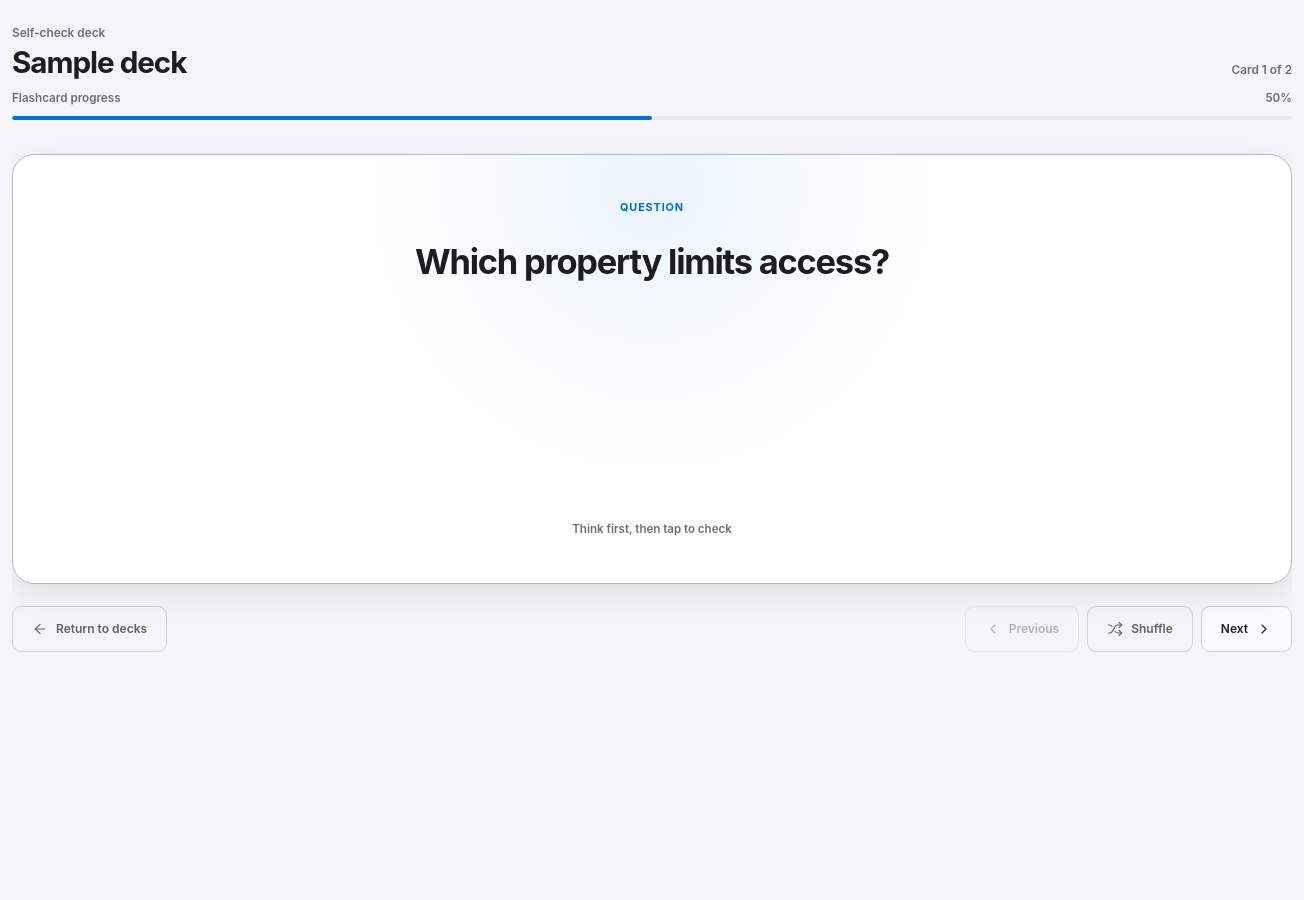
Test: FlashcardDeck › reveals a self-check answer without scoring it
Check: the text "Card 1 of 2" is shown, box [1232,61,1292,79]
Check: the text "Which property limits access?" is shown, box [415,241,889,282]
Click the button with aria-label "reveal answer": (652, 369) [12,154,1292,584]
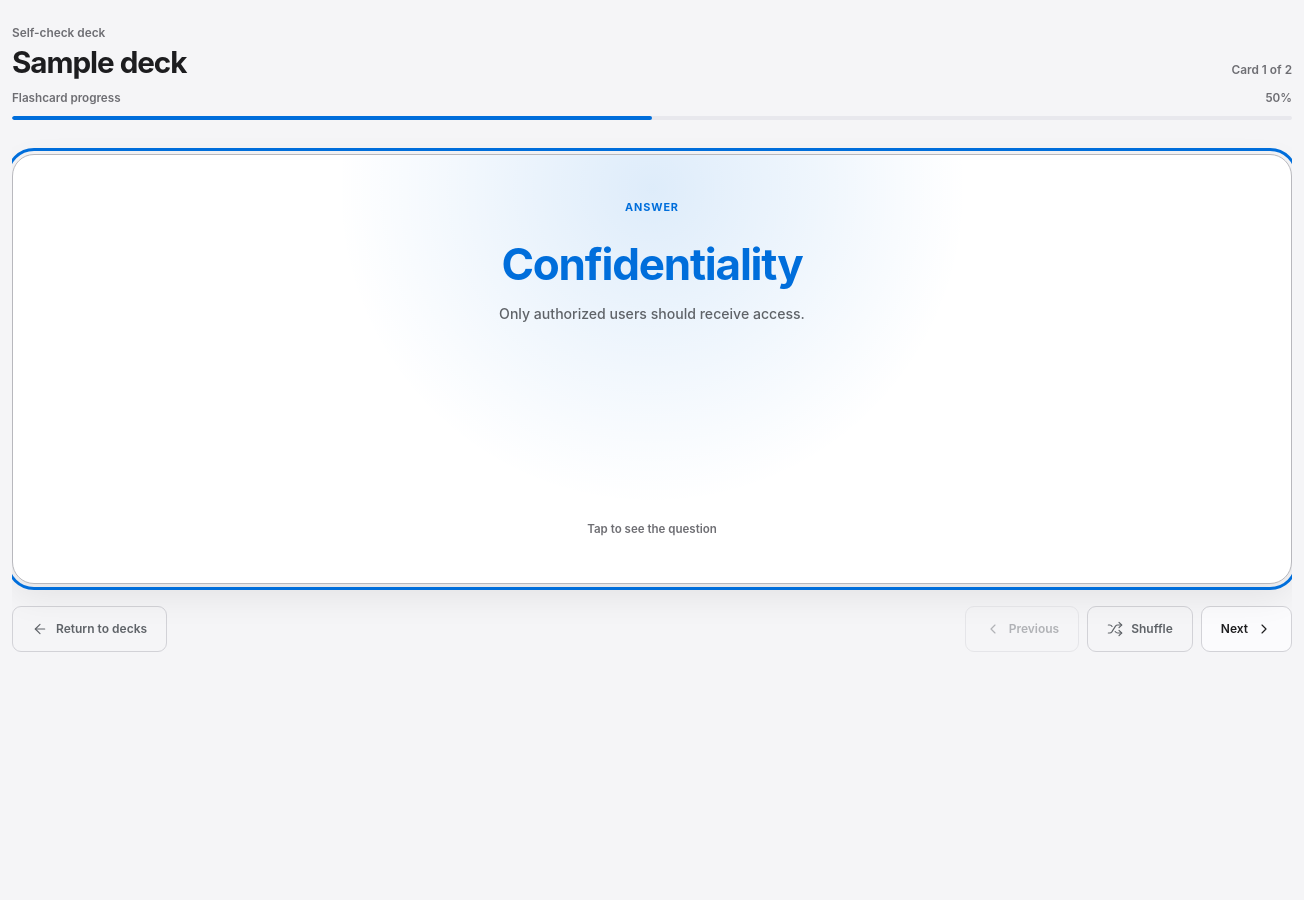
Check: the text "Confidentiality" is shown, box [502,240,802,290]
Check: the text "Only authorized users should receive access." is shown, box [499,304,805,326]
